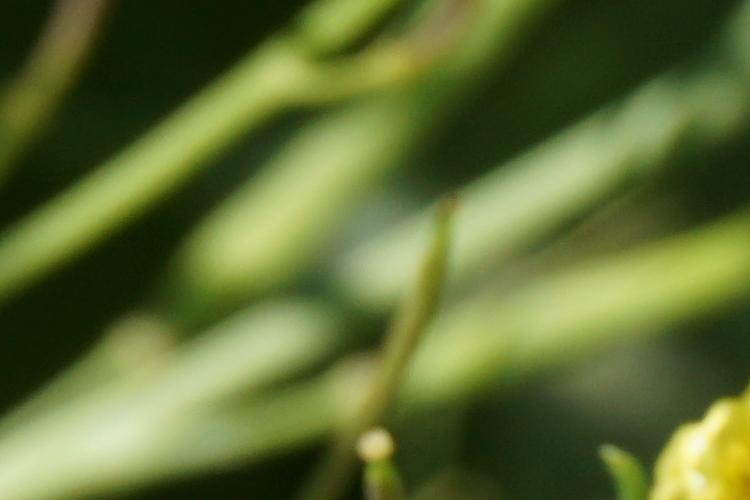pod: (339, 186, 471, 427), (330, 410, 416, 490)
